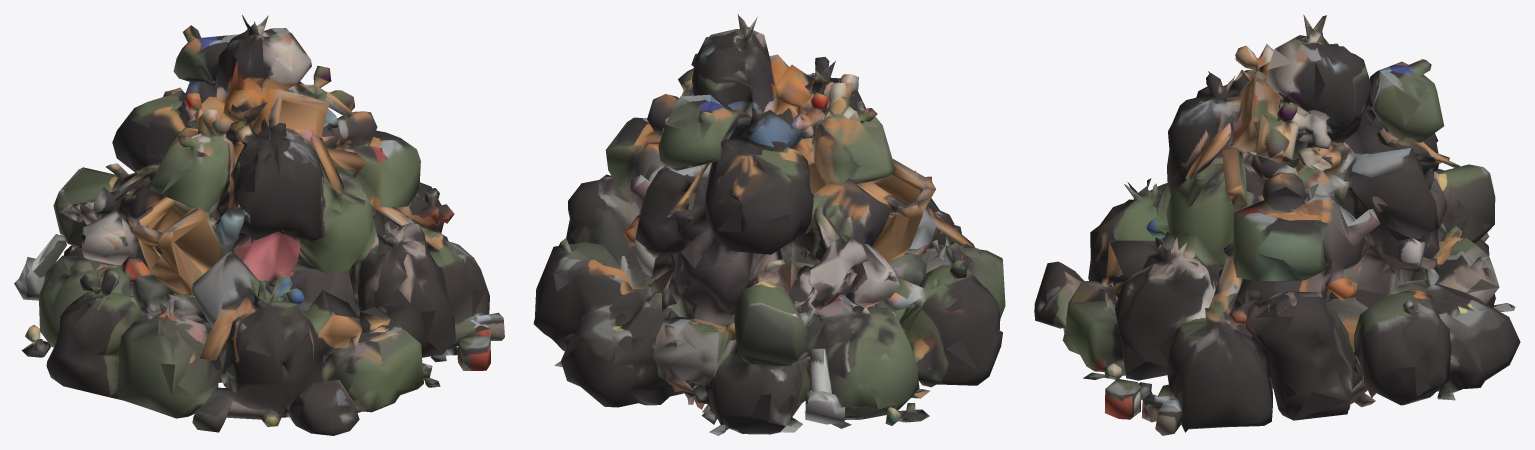
The model's file is trash_Pile.fbx.
3 views of the same model, side by side, from view 1: azimuth 30°, elevation 25°; view 2: azimuth 150°, elevation 25°; view 3: azimuth 270°, elevation 25° (orthographic). The views are drawn at different scales.
Visible parts, largest first — view 1: tripo_node_b8370e32; view 2: tripo_node_b8370e32; view 3: tripo_node_b8370e32.
Part boxes in pixels (x1=…): tripo_node_b8370e32: x1=14, y1=15, x2=504, y2=435; tripo_node_b8370e32: x1=533, y1=14, x2=1005, y2=435; tripo_node_b8370e32: x1=1034, y1=14, x2=1520, y2=435.
Bounding box in the file's own units: 0.9915 × 0.8848 × 1.
1 material, 1 textured.
